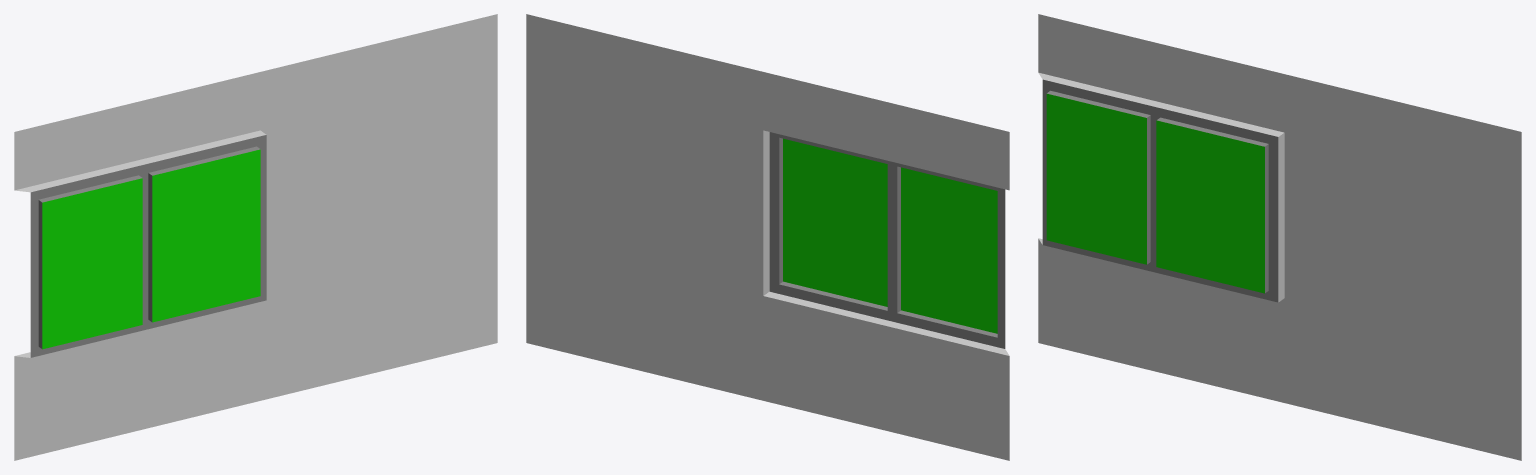
The model's file is Wall05_4m.fbx.
3 renders of one model, left to right at view 1: azimuth 30°, elevation 25°; view 2: azimuth 150°, elevation 25°; view 3: azimuth 330°, elevation 25°, orthographic.
Visible parts, largest first — view 1: Wall05_4m; view 2: Wall05_4m; view 3: Wall05_4m.
Part boxes in pixels (x1,y1,x2,y2): Wall05_4m: [14, 14, 497, 460]; Wall05_4m: [526, 14, 1009, 460]; Wall05_4m: [1038, 14, 1521, 460].
Bounding box in the file's own units: 4 × 2.6 × 0.1426.
